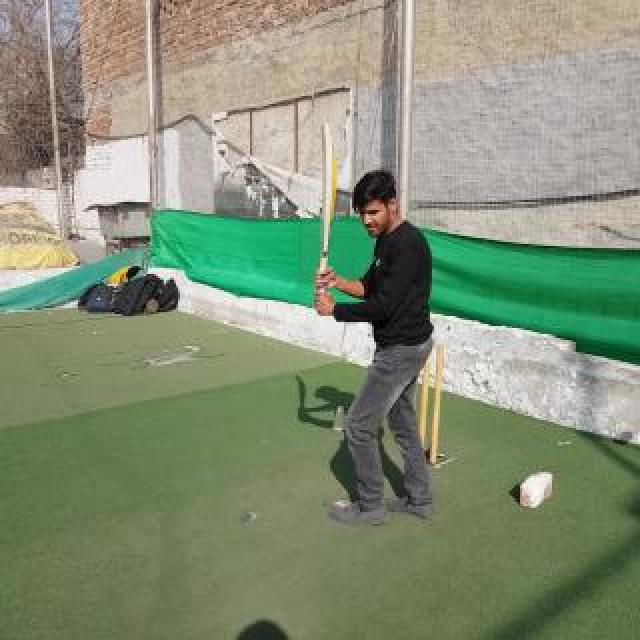bat: (319, 122, 337, 316)
